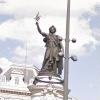Statue: (28, 7, 66, 83)
